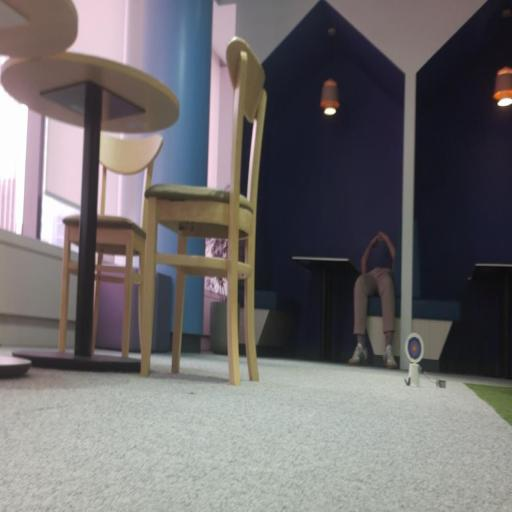target: (406, 333, 423, 365)
